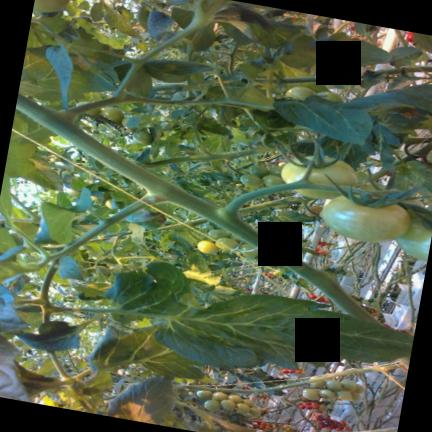6kp_peduncle: (175, 179, 305, 245), (211, 151, 242, 173)
6kp_petiole: (109, 160, 215, 222), (18, 95, 105, 152), (190, 134, 229, 160)
MainStem: (16, 93, 382, 324), (173, 362, 406, 392), (146, 147, 272, 166), (240, 194, 315, 212), (275, 74, 334, 83)
tomato: (321, 195, 410, 242), (281, 155, 357, 198), (396, 217, 432, 261), (33, 0, 69, 12), (285, 86, 315, 100), (77, 101, 101, 115), (101, 106, 123, 121), (240, 173, 263, 187), (133, 129, 154, 144), (316, 90, 342, 102), (238, 243, 260, 257), (215, 237, 238, 250), (197, 240, 219, 253), (262, 174, 284, 186), (249, 164, 269, 177), (207, 229, 230, 238), (340, 379, 357, 391), (302, 388, 320, 399), (204, 399, 220, 411), (259, 253, 276, 264), (319, 388, 336, 399), (325, 379, 342, 390), (235, 402, 250, 414), (336, 389, 351, 400), (220, 399, 235, 410), (212, 391, 227, 401), (196, 390, 212, 399), (248, 407, 261, 417), (64, 188, 80, 196), (228, 394, 242, 402), (349, 392, 361, 401), (270, 166, 281, 175), (310, 380, 324, 387), (355, 383, 364, 393), (243, 398, 254, 406), (230, 234, 242, 241), (426, 151, 432, 163), (105, 198, 111, 208), (327, 402, 333, 409), (305, 404, 313, 409), (302, 401, 310, 406), (328, 423, 335, 428), (336, 425, 343, 430), (318, 414, 323, 420), (319, 422, 326, 426), (91, 195, 96, 200), (333, 419, 338, 424), (298, 404, 304, 408), (344, 425, 350, 429), (341, 419, 345, 425)
